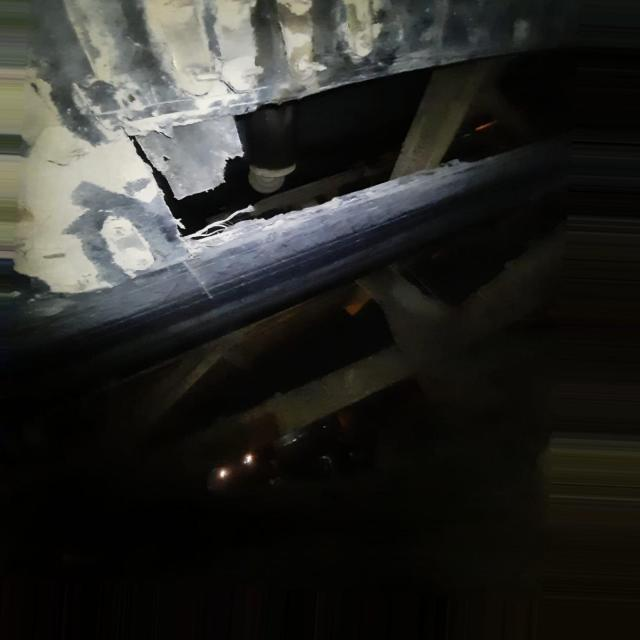Hole: (125, 46, 553, 247)
